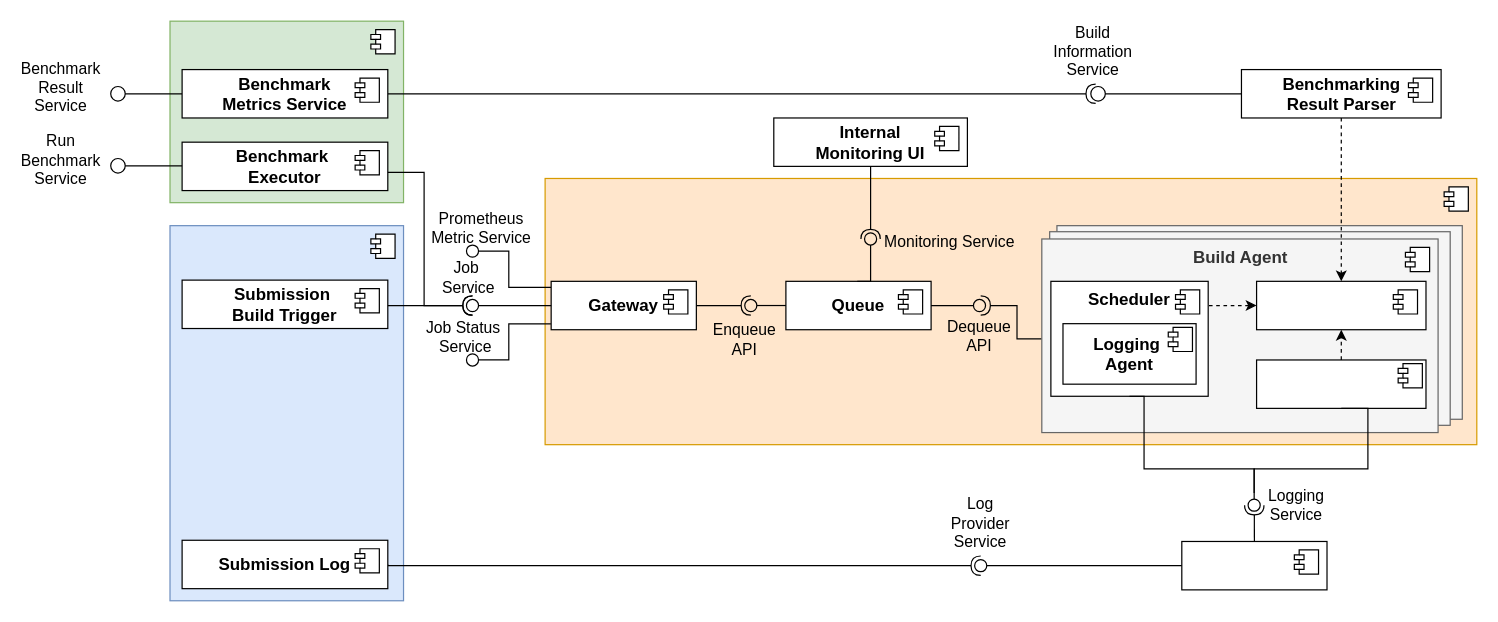
Image size: 1498x622. Some labels were removed from this diagram. The box of each missing label's shape, as (x1, y1, x2, y2) in pixels:
CI-Benchmarker: (169, 20, 404, 203)
HadesCI: (544, 177, 1477, 445)
Kubernetes Driver: (1255, 359, 1426, 408)
Kubernetes Operator: (1255, 280, 1426, 330)
Learning Platform: (169, 224, 404, 601)
Logging Server: (1181, 540, 1327, 590)
